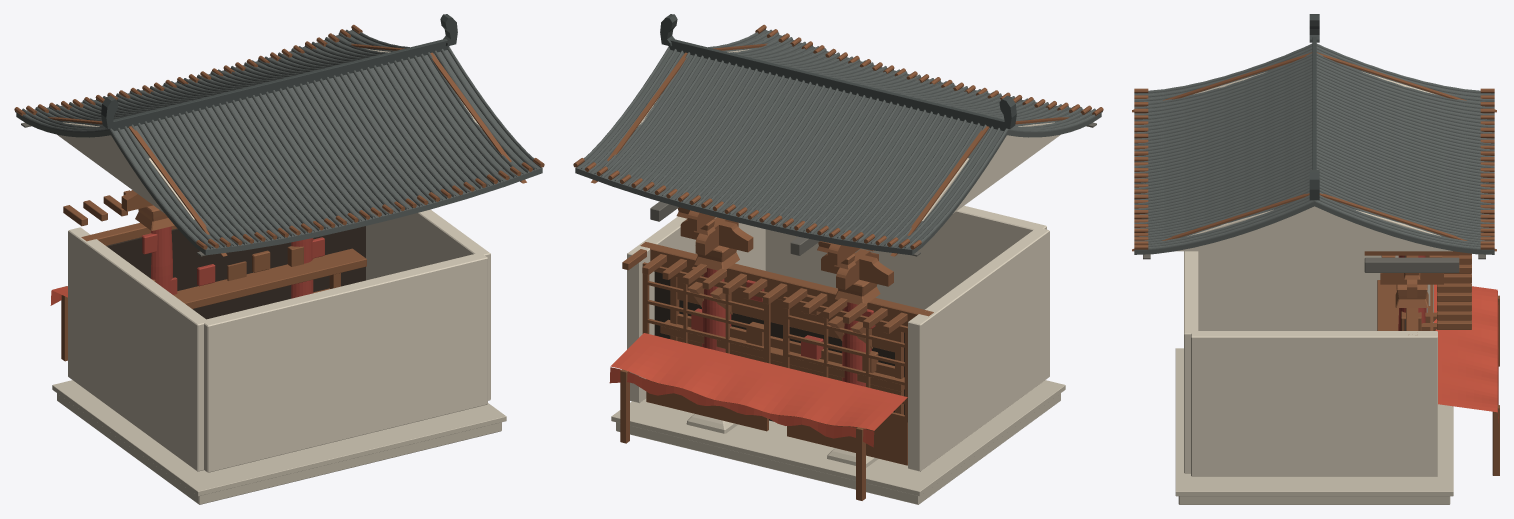
File: shop-low-shijing.glb
3 views of the same model, side by side, from view 1: azimuth 30°, elevation 25°; view 2: azimuth 150°, elevation 25°; view 3: azimuth 270°, elevation 25° (orthographic). The views are drawn at different scales.
Parts seen in each view (by area): view 1: shop_low_shijing; view 2: shop_low_shijing; view 3: shop_low_shijing.
Boxes of the visible parts, <box> form: shop_low_shijing: <box>14,14,544,504</box>; shop_low_shijing: <box>573,14,1103,504</box>; shop_low_shijing: <box>1132,14,1499,504</box>.
Bounding box in the file's own units: 5.51 × 5.38 × 5.24.
